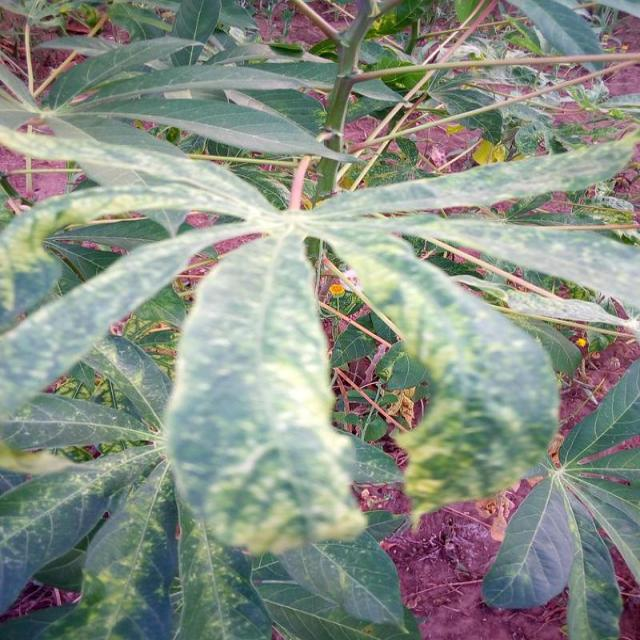cassava leaf: (1, 0, 638, 638), (163, 230, 367, 555)
